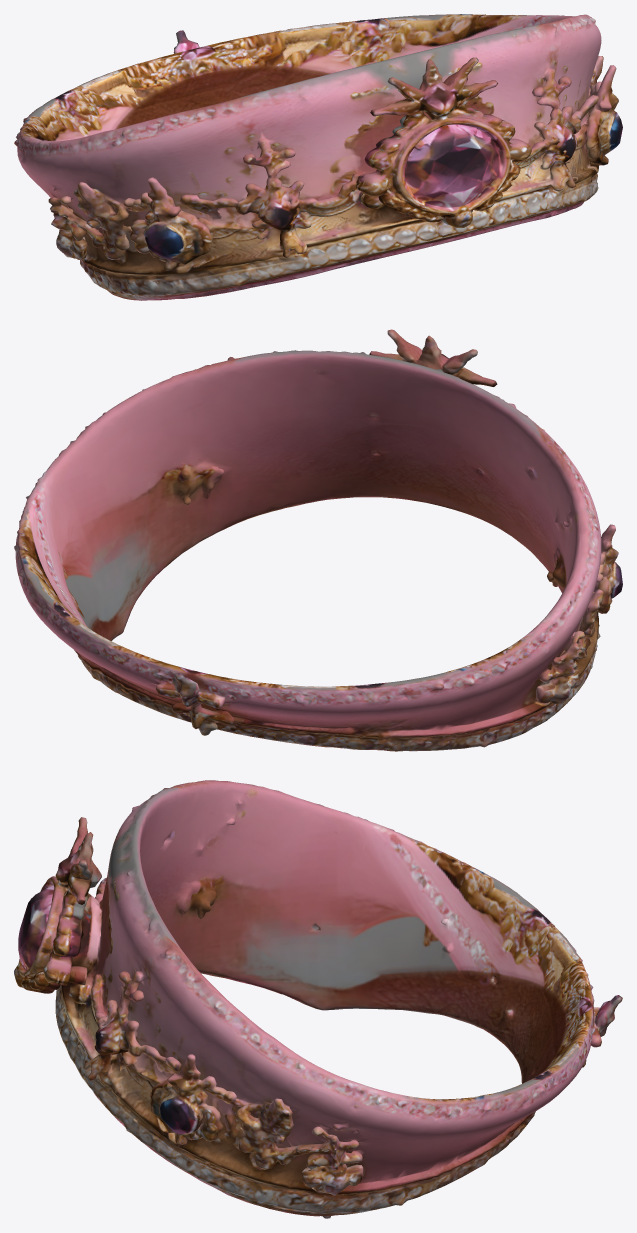
The model's file is kpop-crown.glb.
3 views of the same model, one above another, from view 1: azimuth 30°, elevation 25°; view 2: azimuth 150°, elevation 25°; view 3: azimuth 270°, elevation 25° (orthographic). The views are drawn at different scales.
Visible parts, largest first — view 1: tripo_node_fb757d73-c3a5-4c31-9e24-ce38b730ca6f; view 2: tripo_node_fb757d73-c3a5-4c31-9e24-ce38b730ca6f; view 3: tripo_node_fb757d73-c3a5-4c31-9e24-ce38b730ca6f.
Part boxes in pixels (x1=…): tripo_node_fb757d73-c3a5-4c31-9e24-ce38b730ca6f: x1=14, y1=14, x2=622, y2=300; tripo_node_fb757d73-c3a5-4c31-9e24-ce38b730ca6f: x1=14, y1=329, x2=622, y2=751; tripo_node_fb757d73-c3a5-4c31-9e24-ce38b730ca6f: x1=14, y1=780, x2=622, y2=1218.
Bounding box in the file's own units: 1.31 × 0.621 × 1.22.
Materials: 1 (1 with a texture image).
